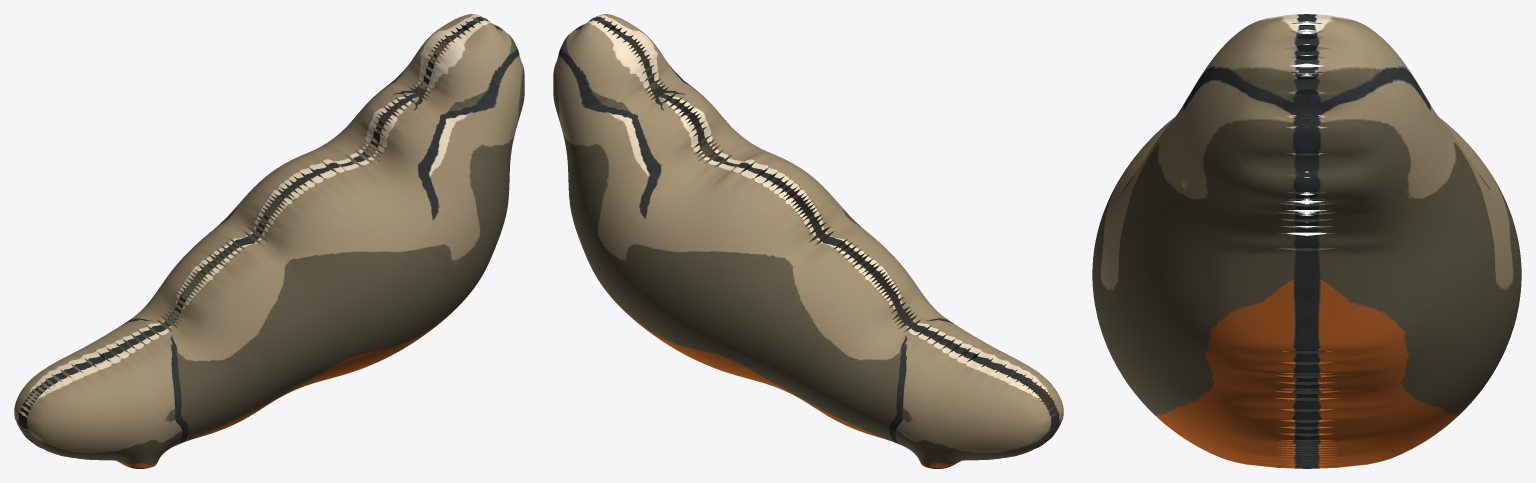
The model's file is lava_bank_rib.glb.
3 renders of one model, left to right at view 1: azimuth 30°, elevation 25°; view 2: azimuth 150°, elevation 25°; view 3: azimuth 270°, elevation 25°, orthographic. The views are drawn at different scales.
Parts seen in each view (by area): view 1: lava_bank_rib; view 2: lava_bank_rib; view 3: lava_bank_rib.
Boxes of the visible parts, x1,y1,x2,y2 form: lava_bank_rib: (14,14,524,468); lava_bank_rib: (553,14,1063,468); lava_bank_rib: (1092,14,1521,468).
Bounding box in the file's own units: 0.989 × 0.6533 × 0.4047.
Materials: 1 (1 with a texture image).
